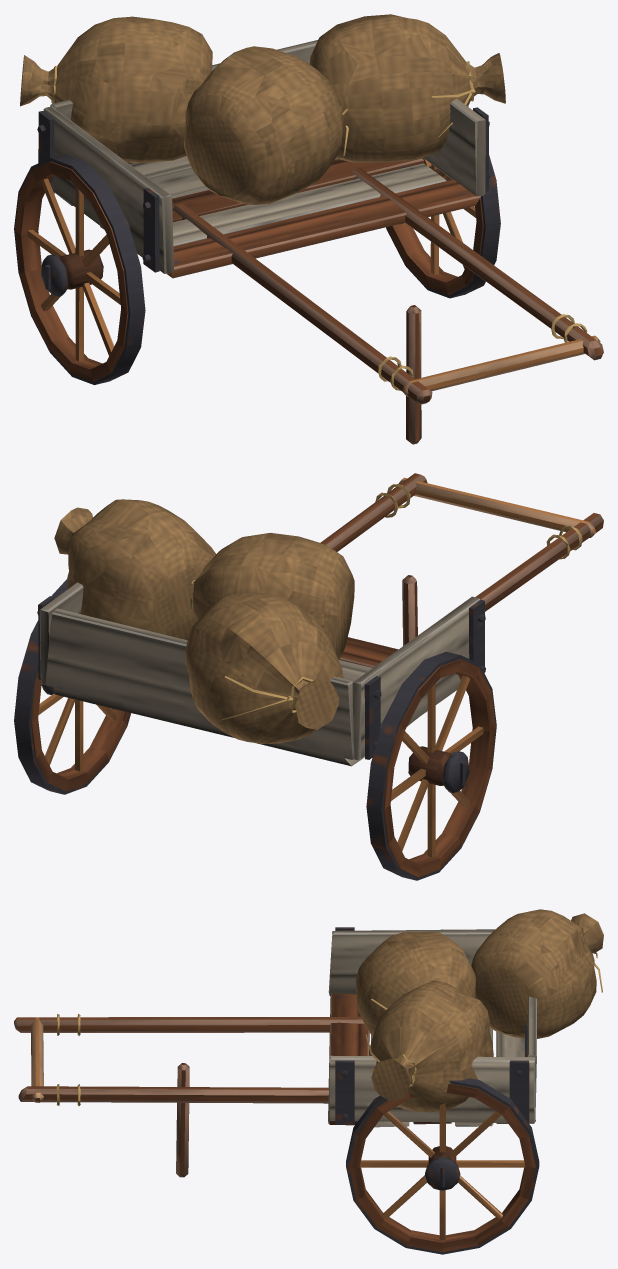
Rendered from SM_Hand_Cart_LOD1.gltf.
The picture shows the model from 3 angles, top to bottom: view 1: azimuth 30°, elevation 25°; view 2: azimuth 150°, elevation 25°; view 3: azimuth 270°, elevation 25°; orthographic projection. The views are drawn at different scales.
Parts seen in each view (by area): view 1: SM_Hand_Cart_LOD1; view 2: SM_Hand_Cart_LOD1; view 3: SM_Hand_Cart_LOD1.
Part boxes in pixels (bbox=[...]): SM_Hand_Cart_LOD1: bbox=[14, 14, 603, 444]; SM_Hand_Cart_LOD1: bbox=[14, 473, 603, 880]; SM_Hand_Cart_LOD1: bbox=[14, 909, 603, 1254].
Bounding box in the file's own units: 2 × 1.28 × 2.84.
Materials: 1 (1 with a texture image).
